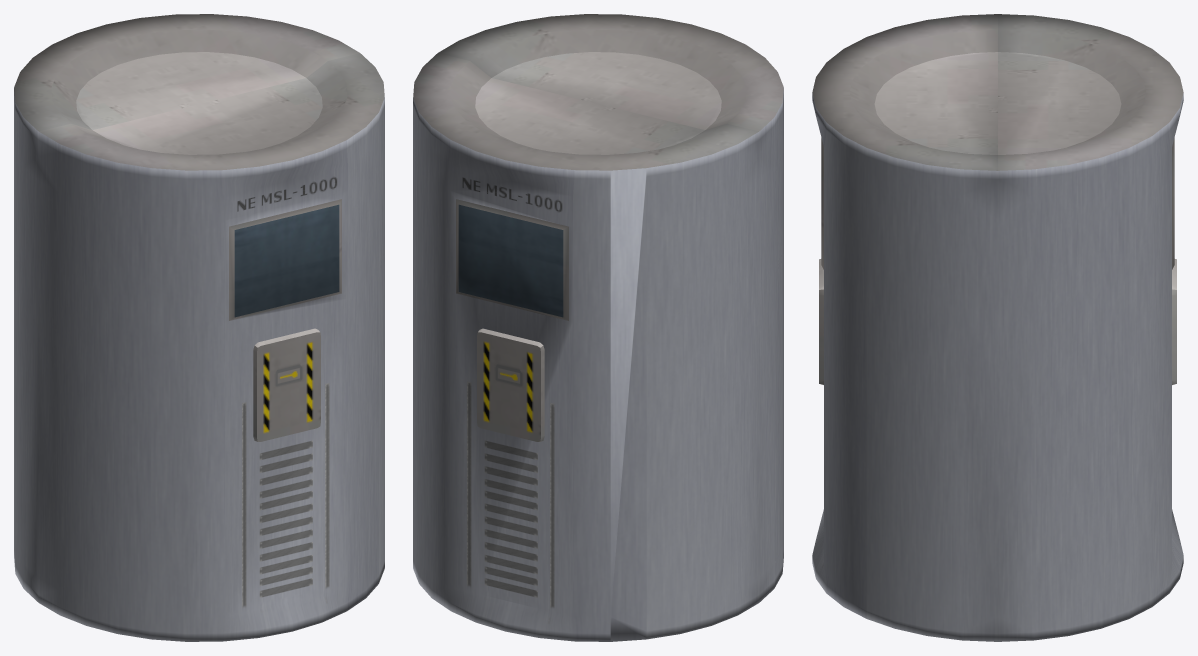
The model's file is MSL1000_External.fbx.
3 views of the same model, side by side, from view 1: azimuth 30°, elevation 25°; view 2: azimuth 150°, elevation 25°; view 3: azimuth 270°, elevation 25° (orthographic).
Visible parts, largest first — view 1: Lab, Hatch_1; view 2: Lab, Hatch_2; view 3: Lab, Hatch_1, Hatch_2.
Part boxes in pixels (box(x1,y1,x2,y2)): Lab: box(14, 14, 384, 641); Hatch_1: box(253, 328, 320, 441); Lab: box(413, 14, 783, 641); Hatch_2: box(477, 328, 544, 441); Lab: box(812, 14, 1183, 641); Hatch_1: box(819, 259, 823, 384); Hatch_2: box(1172, 259, 1176, 384).
Size of what is drawn, in the model's own units: 4 by 5.6 by 4.
